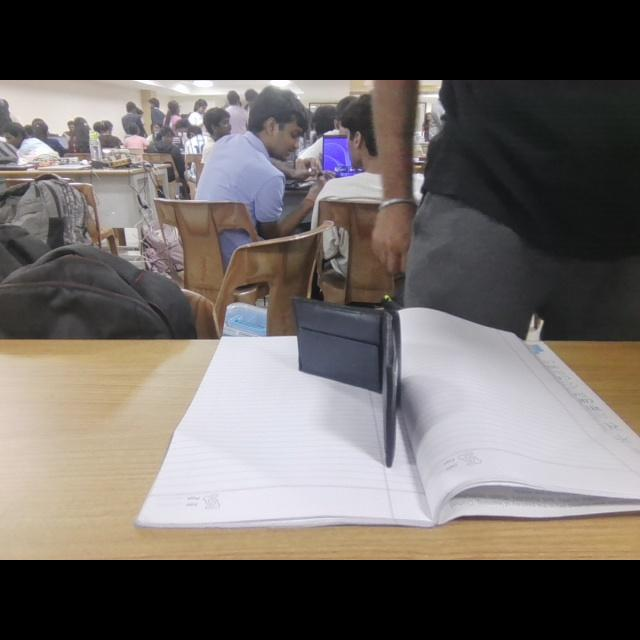wallet: (290, 295, 420, 471)
